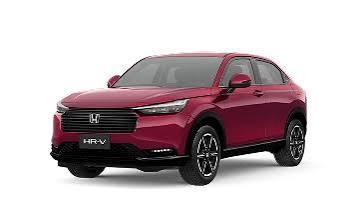car: (43, 47, 306, 186)
